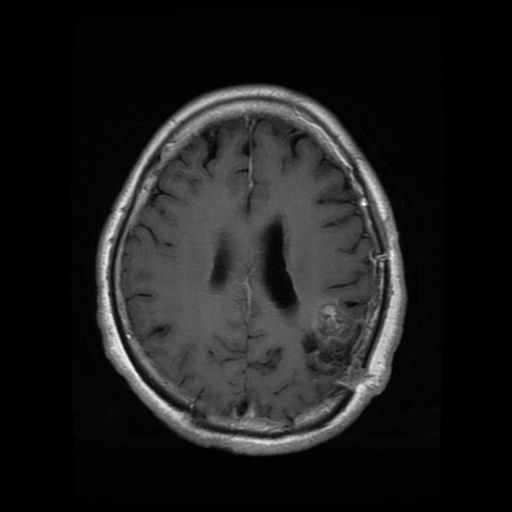glioma: (300, 292, 364, 375)
